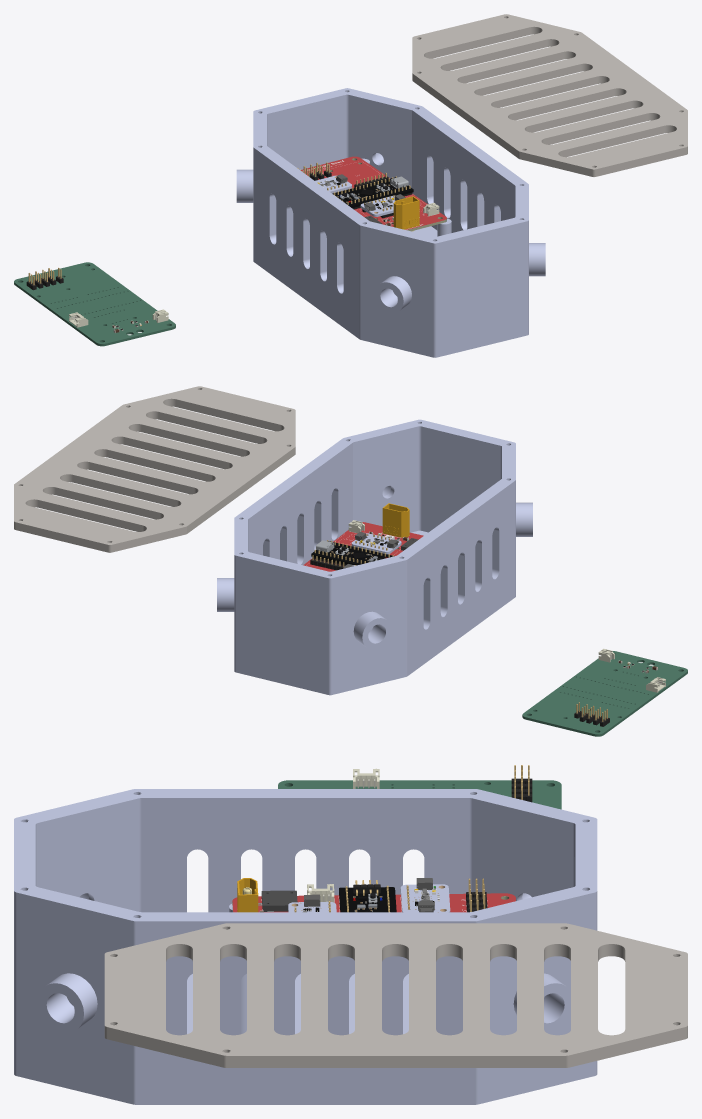
3 renders of one model, top to bottom at view 1: azimuth 30°, elevation 25°; view 2: azimuth 150°, elevation 25°; view 3: azimuth 270°, elevation 25°, orthographic. The views are drawn at different scales.
Parts seen in each view (by area): view 1: FRED_Prototype_1-1, Prototype_Lid-1, redstart_PCB.step-1, redstart_soldermask.step-1, XT60 male v2.step-1, pcb_000.step-1; view 2: FRED_Prototype_1-1, Prototype_Lid-1, redstart_PCB.step-1, XT60 male v2.step-1, redstart_soldermask.step-1, pcb_000.step-1; view 3: FRED_Prototype_1-1, Prototype_Lid-1, redstart_PCB.step-1, redstart_soldermask.step-1, pcb_000.step-1, Board.step-1, XT60 male v2.step-1, Buzzer_AST1341MCTRQ-1.step-1.
Part boxes in pixels (<box>): FRED_Prototype_1-1: <box>236,88,545,357</box>; Prototype_Lid-1: <box>412,14,687,176</box>; redstart_PCB.step-1: <box>14,262,175,346</box>; redstart_soldermask.step-1: <box>301,156,446,229</box>; XT60 male v2.step-1: <box>393,196,419,231</box>; pcb_000.step-1: <box>332,177,413,207</box>; FRED_Prototype_1-1: <box>217,419,532,695</box>; Prototype_Lid-1: <box>14,386,295,552</box>; redstart_PCB.step-1: <box>522,651,687,736</box>; XT60 male v2.step-1: <box>382,503,409,537</box>; redstart_soldermask.step-1: <box>303,522,423,571</box>; pcb_000.step-1: <box>311,541,394,565</box>; FRED_Prototype_1-1: <box>14,789,597,1104</box>; Prototype_Lid-1: <box>104,923,687,1067</box>; redstart_PCB.step-1: <box>278,780,561,809</box>; redstart_soldermask.step-1: <box>232,893,515,912</box>; pcb_000.step-1: <box>339,887,396,912</box>; Board.step-1: <box>400,884,450,912</box>; XT60 male v2.step-1: <box>237,878,258,912</box>; Buzzer_AST1341MCTRQ-1.step-1: <box>258,890,297,911</box>.
Bounding box in the file's own units: 0.3926 × 0.08 × 0.2496.
